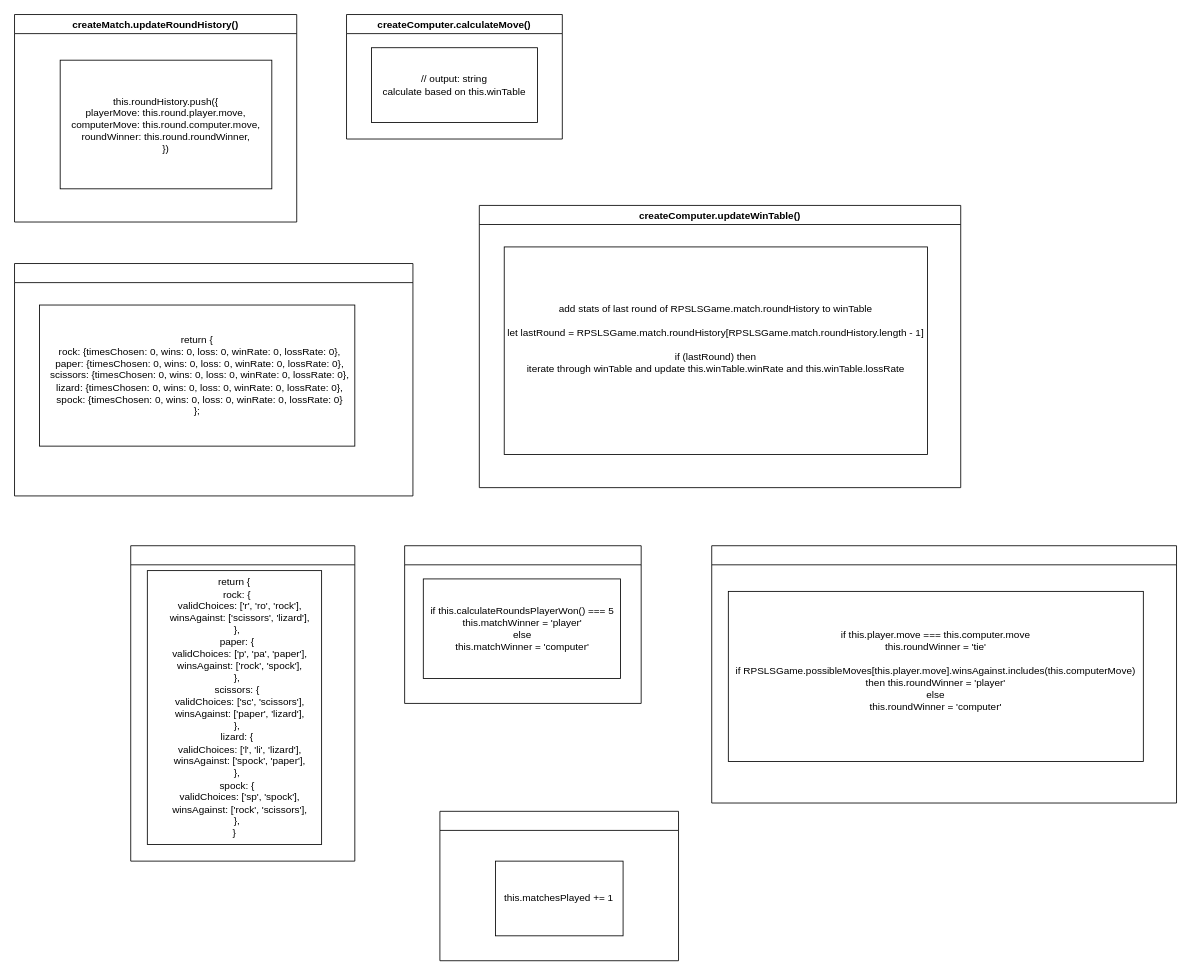
The diagram is 1191 pixels wide and 975 high, and some of its shapes have lost their labels. The shapes that lost their labels are listed below. From the top down, each one's box as (x1, y1, x2, y2) in pixels, then its label:
(14, 263, 413, 496): initializeWinTable()
(404, 545, 641, 703): createMatch.calculateMatchWinner()
(711, 545, 1177, 803): createRound.calculateRoundWinner()
(130, 545, 355, 861): initializePossibleMoves()
(439, 810, 679, 961): RPSLSGame.updateMatchesPlayed()
